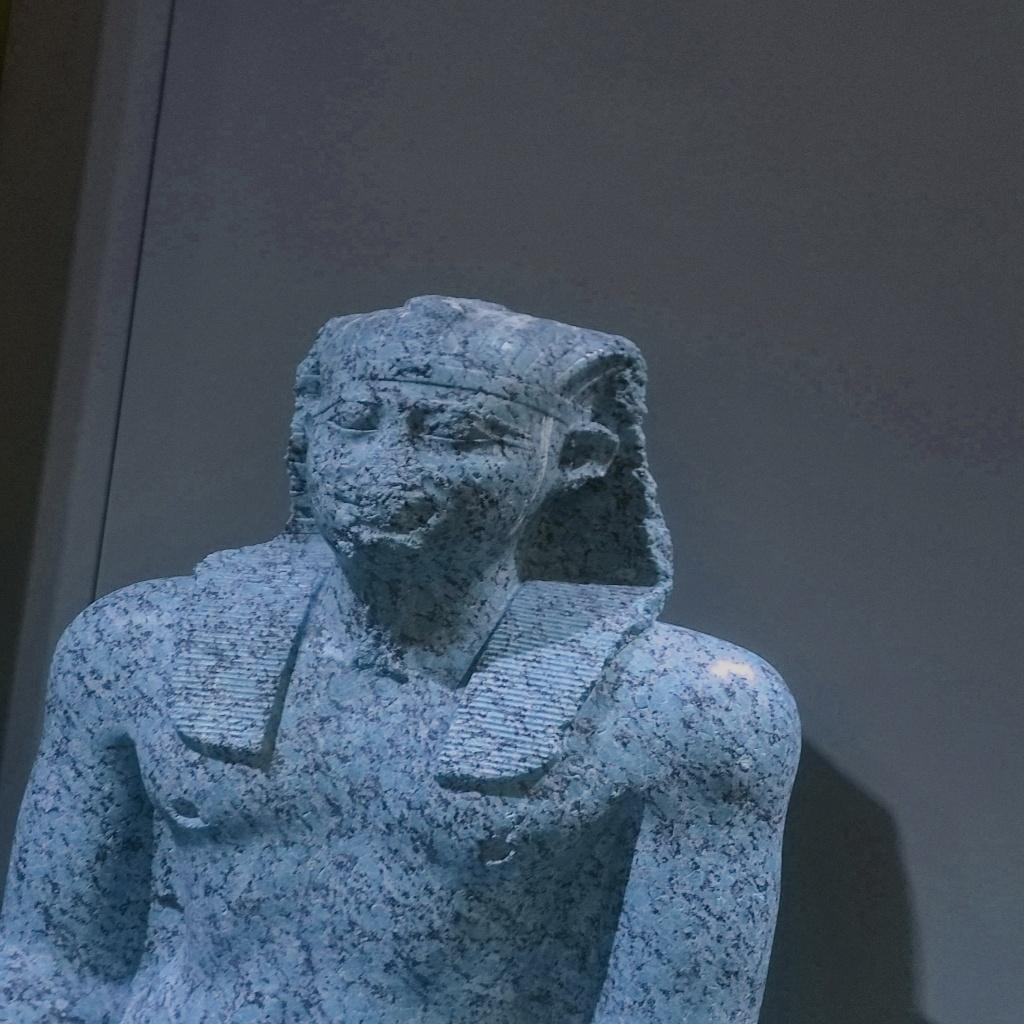Statue of Amenmhat I: (3, 292, 807, 1022)
